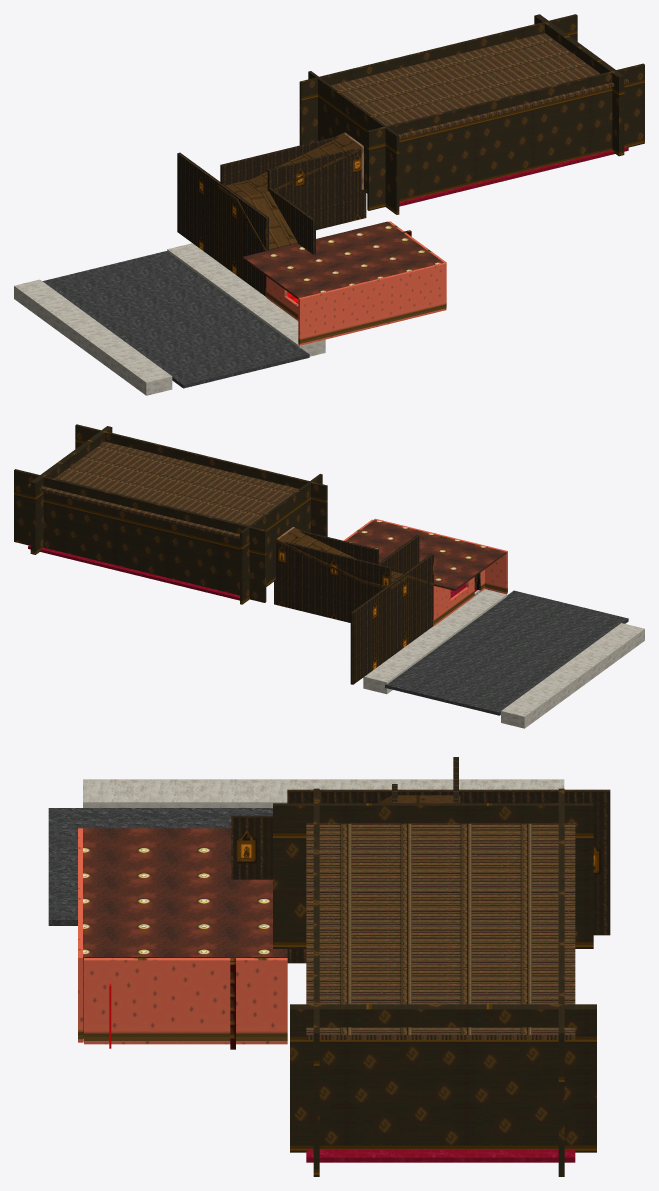
Rendered from Inn_brush.glb.
The picture shows the model from 3 angles, top to bottom: view 1: azimuth 30°, elevation 25°; view 2: azimuth 150°, elevation 25°; view 3: azimuth 270°, elevation 25°; orthographic projection. The views are drawn at different scales.
Visible parts, largest first — view 1: Inn; view 2: Inn; view 3: Inn.
Part boxes in pixels (box(x1,y1,x2,y2)): Inn: box(14, 14, 644, 395); Inn: box(14, 424, 644, 728); Inn: box(48, 757, 610, 1176).
Size of the model in its own units: 2512 by 630 by 1196.
Materials: 20 (20 with a texture image).
